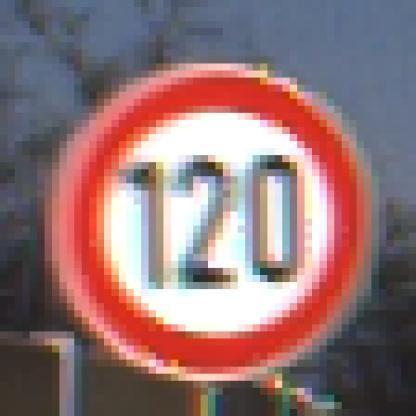Speed Limit -120-: (88, 81, 368, 349)
